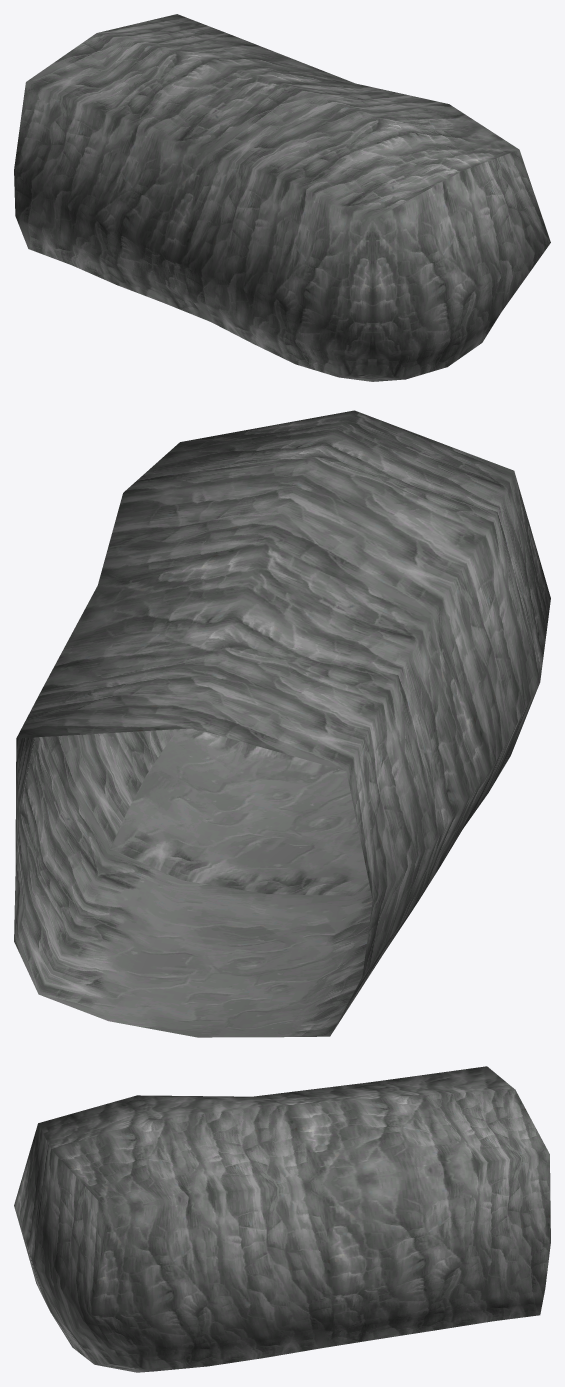
Rendered from SWORDLIGHT20_PS-AREA04_09.fbx.
3 renders of one model, top to bottom at view 1: azimuth 30°, elevation 25°; view 2: azimuth 150°, elevation 25°; view 3: azimuth 270°, elevation 25°, orthographic. The views are drawn at different scales.
Parts seen in each view (by area): view 1: SWORDLIGHT20_PS-AREA04_09; view 2: SWORDLIGHT20_PS-AREA04_09; view 3: SWORDLIGHT20_PS-AREA04_09.
Part boxes in pixels (x1,y1,x2,y2): SWORDLIGHT20_PS-AREA04_09: (14,14,550,381); SWORDLIGHT20_PS-AREA04_09: (14,410,550,1037); SWORDLIGHT20_PS-AREA04_09: (14,1066,550,1372).
Bounding box in the file's own units: 73256 × 48846 × 102079.
3 materials, 3 textured.
